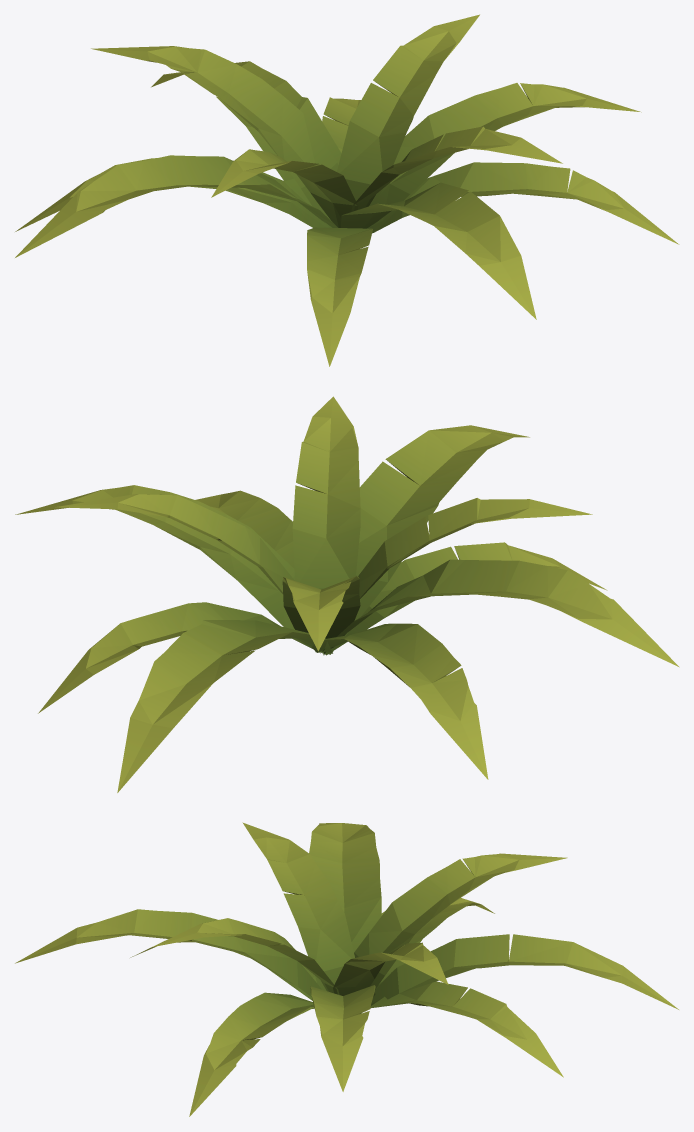
The model's file is Plant_03.fbx.
3 renders of one model, top to bottom at view 1: azimuth 30°, elevation 25°; view 2: azimuth 150°, elevation 25°; view 3: azimuth 270°, elevation 25°, orthographic. The views are drawn at different scales.
Parts seen in each view (by area): view 1: Plant_03; view 2: Plant_03; view 3: Plant_03.
Part boxes in pixels (x1,y1,x2,y2): Plant_03: (15,14,679,366); Plant_03: (15,396,679,792); Plant_03: (15,822,678,1116).
Size of the model in its own units: 140 by 30.32 by 150.
